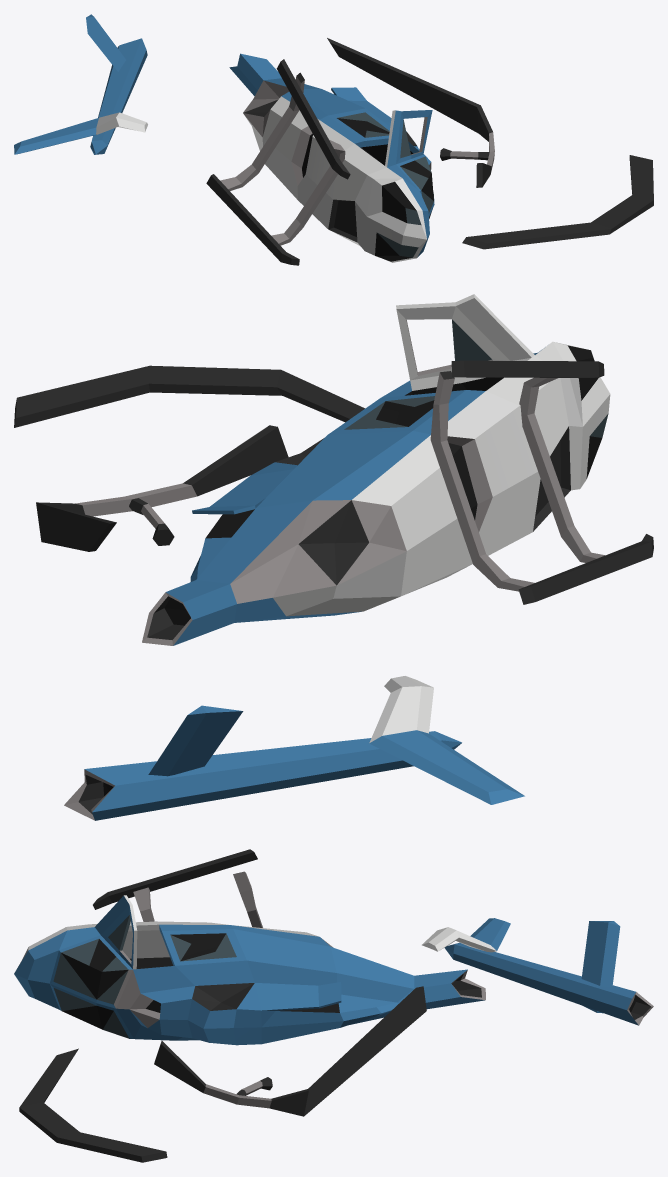
The model's file is apocalypse_helicopter-broken-apocalypse.fbx.
3 renders of one model, top to bottom at view 1: azimuth 30°, elevation 25°; view 2: azimuth 150°, elevation 25°; view 3: azimuth 270°, elevation 25°, orthographic. The views are drawn at different scales.
Visible parts, largest first — view 1: apocalypse_helicopter_broken_apocalypse; view 2: apocalypse_helicopter_broken_apocalypse; view 3: apocalypse_helicopter_broken_apocalypse.
Part boxes in pixels (x1,y1,x2,y2): apocalypse_helicopter_broken_apocalypse: (14,14,653,265); apocalypse_helicopter_broken_apocalypse: (14,294,653,820); apocalypse_helicopter_broken_apocalypse: (14,849,653,1162).
Size of the model in its own units: 178 by 52.81 by 200.
